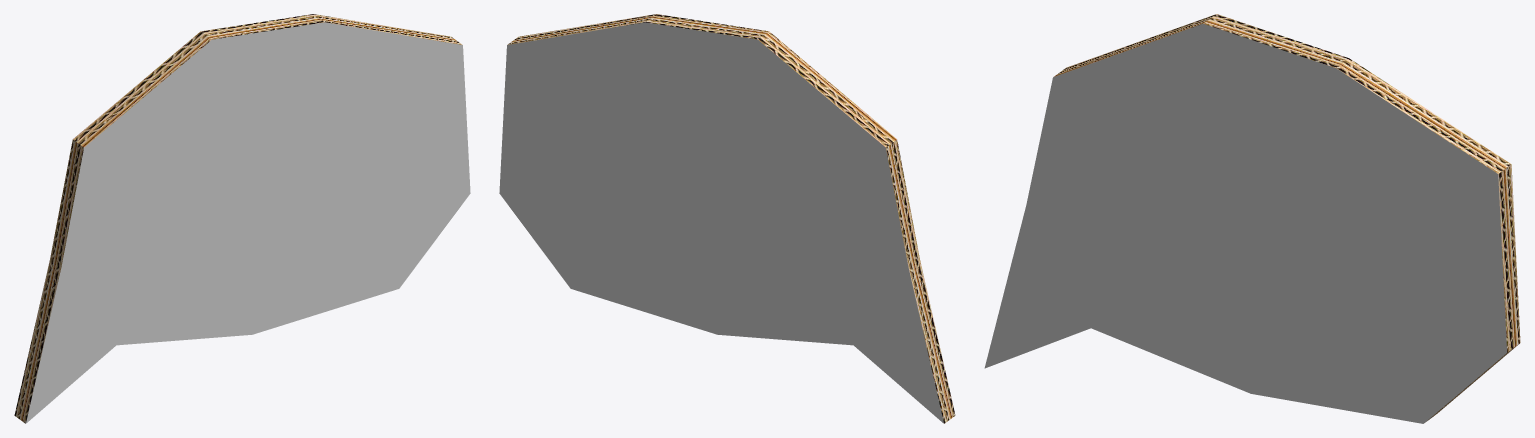
File: speechbubble.fbx
3 renders of one model, left to right at view 1: azimuth 30°, elevation 25°; view 2: azimuth 150°, elevation 25°; view 3: azimuth 330°, elevation 25°, orthographic. The views are drawn at different scales.
Parts seen in each view (by area): view 1: Vert.010; view 2: Vert.010; view 3: Vert.010.
Part boxes in pixels (<box>): Vert.010: <box>14,14,470,423</box>; Vert.010: <box>499,14,955,423</box>; Vert.010: <box>984,14,1520,423</box>.
Bounding box in the file's own units: 15.18 × 11.05 × 0.6744.
2 materials, 1 textured.
